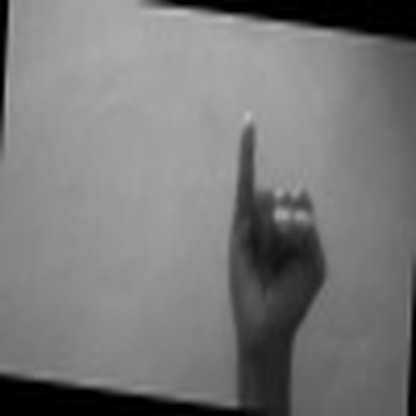i: (211, 108, 331, 363)
